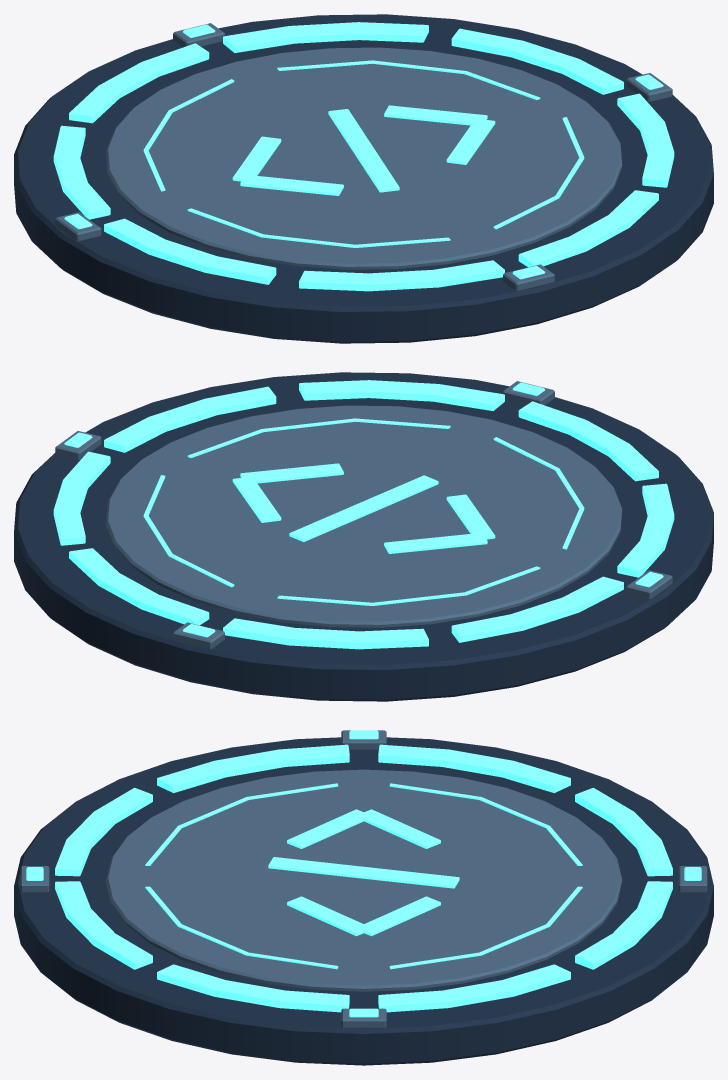
Rendered from placement_node.glb.
3 renders of one model, top to bottom at view 1: azimuth 30°, elevation 25°; view 2: azimuth 150°, elevation 25°; view 3: azimuth 270°, elevation 25°, orthographic.
Parts seen in each view (by area): view 1: placement_node_inner_disk, placement_node_base, placement_node_outer_ring, placement_node_code_rune, placement_node_inner_ring, placement_node_accents; view 2: placement_node_inner_disk, placement_node_base, placement_node_outer_ring, placement_node_code_rune, placement_node_inner_ring, placement_node_accents; view 3: placement_node_inner_disk, placement_node_base, placement_node_outer_ring, placement_node_code_rune, placement_node_inner_ring, placement_node_accents.
Boxes of the visible parts, bbox=[...] form: placement_node_inner_disk: bbox=[105, 47, 622, 269]; placement_node_base: bbox=[14, 14, 713, 343]; placement_node_outer_ring: bbox=[53, 22, 674, 291]; placement_node_code_rune: bbox=[232, 105, 495, 195]; placement_node_inner_ring: bbox=[143, 60, 584, 247]; placement_node_accents: bbox=[55, 23, 672, 290]; placement_node_inner_disk: bbox=[105, 405, 622, 627]; placement_node_base: bbox=[14, 372, 713, 701]; placement_node_outer_ring: bbox=[53, 380, 674, 649]; placement_node_code_rune: bbox=[232, 463, 495, 553]; placement_node_inner_ring: bbox=[143, 418, 584, 605]; placement_node_accents: bbox=[55, 381, 672, 648]; placement_node_inner_disk: bbox=[105, 769, 622, 991]; placement_node_base: bbox=[14, 737, 713, 1065]; placement_node_outer_ring: bbox=[55, 744, 672, 1012]; placement_node_code_rune: bbox=[268, 809, 459, 936]; placement_node_inner_ring: bbox=[145, 783, 582, 969]; placement_node_accents: bbox=[20, 730, 707, 1027].
Size of the model in its own units: 0.9 by 0.0685 by 0.9.
